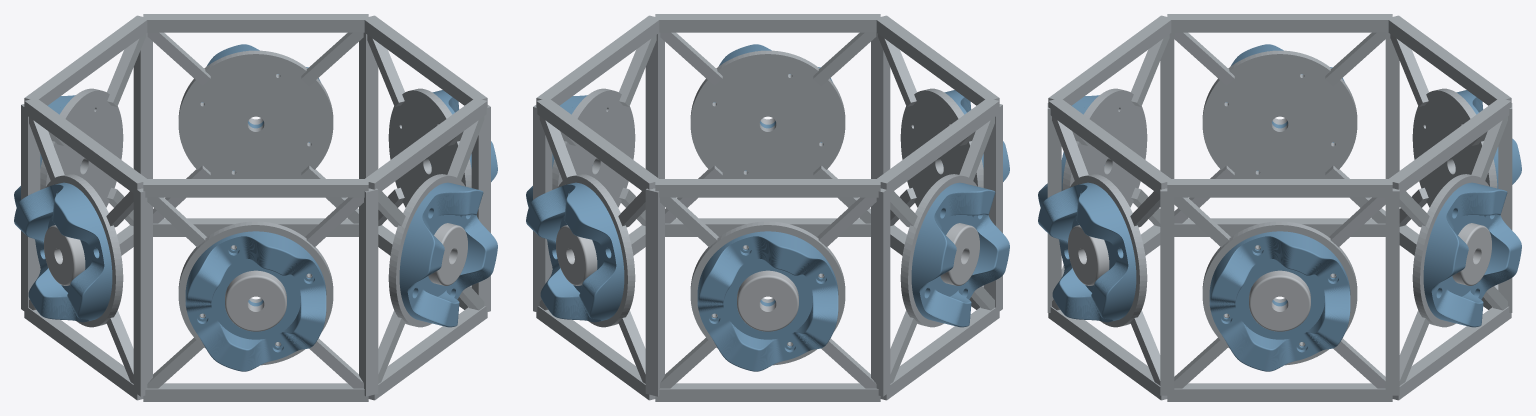
Rendered from module.glb.
3 views of the same model, side by side, from view 1: azimuth 30°, elevation 25°; view 2: azimuth 150°, elevation 25°; view 3: azimuth 270°, elevation 25° (orthographic).
Parts seen in each view (by area): view 1: frame, port_4_head_plate, port_4_stop_land, port_5_head_plate, port_4_petal_2, port_4_petal_0, port_4_petal_3, port_3_head_plate, port_5_petal_3, port_4_petal_1, port_3_stop_land, port_5_petal_1 (+7 smaller); view 2: frame, port_2_head_plate, port_2_stop_land, port_3_head_plate, port_2_petal_2, port_2_petal_0, port_2_petal_3, port_1_head_plate, port_3_petal_3, port_2_petal_1, port_1_stop_land, port_3_petal_1 (+7 smaller); view 3: frame, port_0_head_plate, port_0_stop_land, port_1_head_plate, port_0_petal_2, port_0_petal_0, port_0_petal_3, port_5_head_plate, port_1_petal_3, port_0_petal_1, port_5_stop_land, port_1_petal_1 (+7 smaller).
Part boxes in pixels (<box>): frame: <box>21,14,490,401</box>; port_4_head_plate: <box>185,231,326,360</box>; port_4_stop_land: <box>225,270,286,331</box>; port_5_head_plate: <box>399,182,473,320</box>; port_4_petal_2: <box>196,320,272,371</box>; port_4_petal_0: <box>239,235,315,277</box>; port_4_petal_3: <box>279,283,326,353</box>; port_3_head_plate: <box>35,182,112,322</box>; port_5_petal_3: <box>454,215,497,294</box>; port_4_petal_1: <box>185,244,232,313</box>; port_3_stop_land: <box>44,225,85,285</box>; port_5_petal_1: <box>407,212,444,293</box>; frame: <box>533,14,1002,401</box>; port_2_head_plate: <box>697,231,838,360</box>; port_2_stop_land: <box>737,270,798,331</box>; port_3_head_plate: <box>911,182,985,320</box>; port_2_petal_2: <box>708,320,784,371</box>; port_2_petal_0: <box>751,235,827,277</box>; port_2_petal_3: <box>791,283,838,353</box>; port_1_head_plate: <box>547,182,624,322</box>; port_3_petal_3: <box>966,215,1009,294</box>; port_2_petal_1: <box>697,244,744,313</box>; port_1_stop_land: <box>556,225,597,285</box>; port_3_petal_1: <box>919,212,956,293</box>; frame: <box>1047,14,1512,401</box>; port_0_head_plate: <box>1209,231,1350,360</box>; port_0_stop_land: <box>1249,270,1310,331</box>; port_1_head_plate: <box>1423,182,1497,320</box>; port_0_petal_2: <box>1220,320,1296,371</box>; port_0_petal_0: <box>1263,235,1339,277</box>; port_0_petal_3: <box>1303,283,1350,353</box>; port_5_head_plate: <box>1059,182,1136,322</box>; port_1_petal_3: <box>1478,215,1521,294</box>; port_0_petal_1: <box>1209,244,1256,313</box>; port_5_stop_land: <box>1068,225,1109,285</box>; port_1_petal_1: <box>1431,212,1468,293</box>.
Bounding box in the file's own units: 0.3411 × 0.17 × 0.3435.
